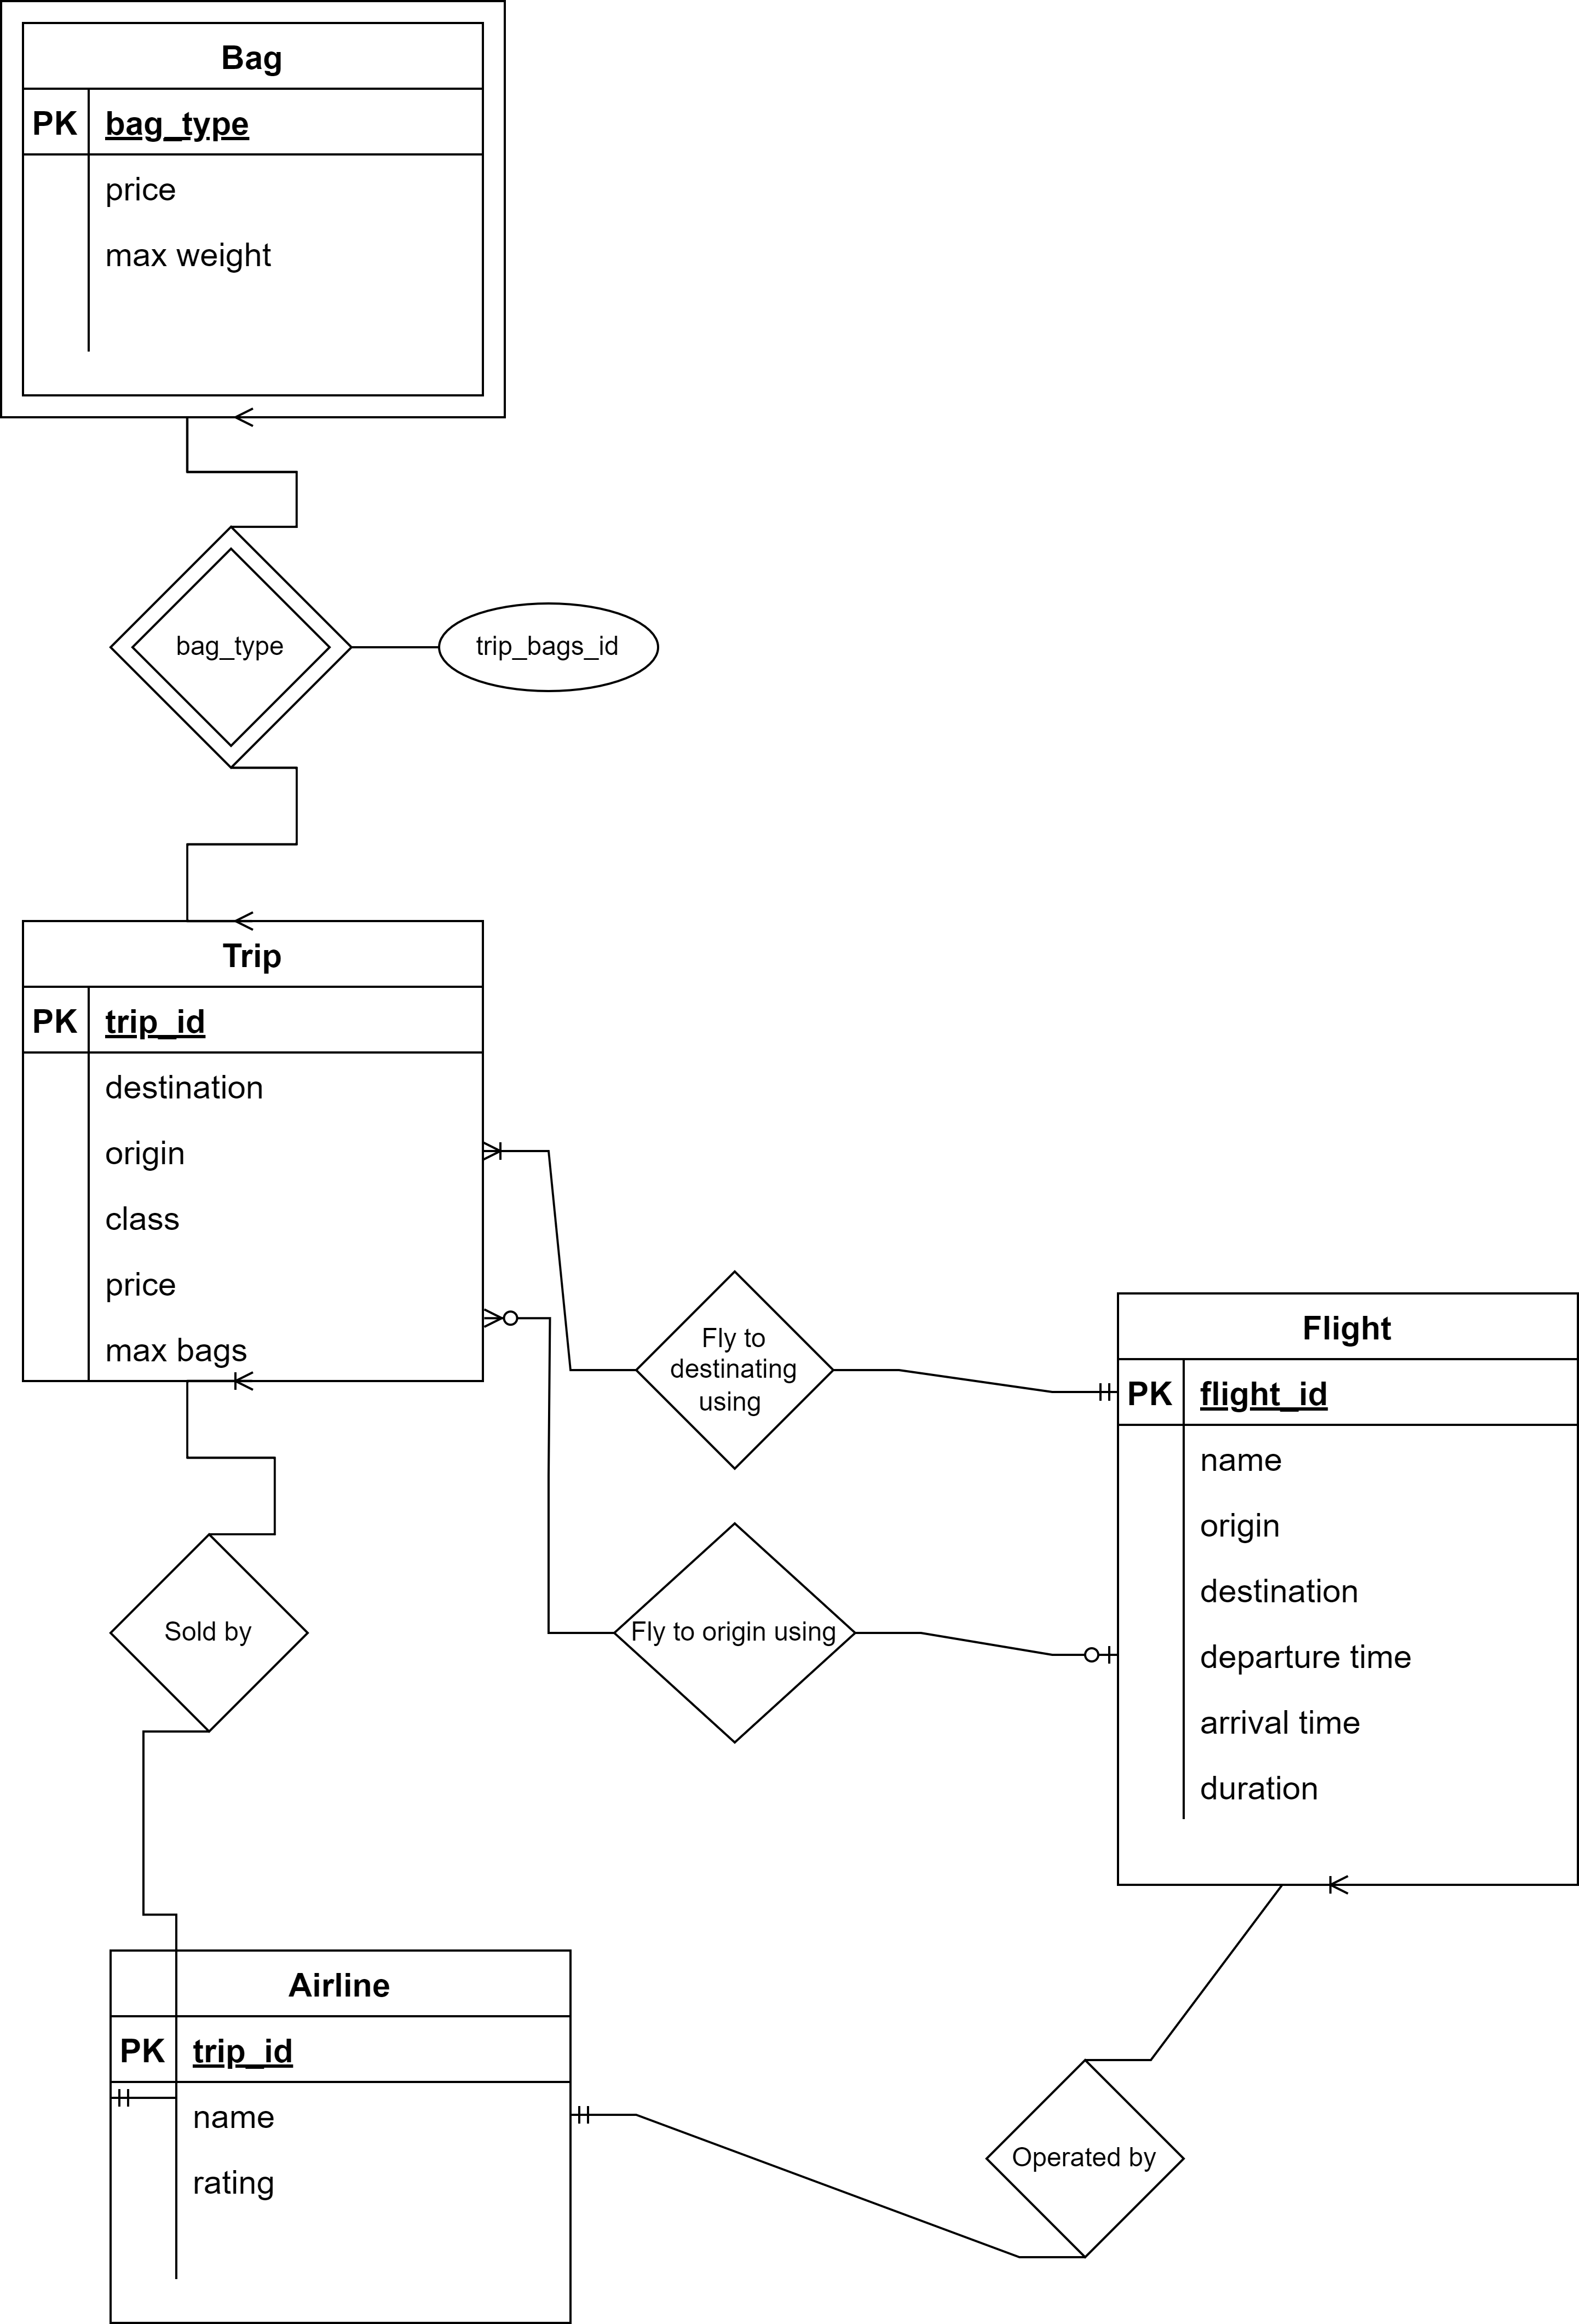entity: (1116, 1290, 1579, 1884), (19, 916, 481, 1385), (109, 1950, 567, 2324)
ident_rel: (107, 527, 349, 770)
many: (476, 1283, 543, 1353), (1290, 1866, 1394, 1910), (185, 391, 271, 440), (203, 897, 287, 944), (483, 1126, 537, 1188), (185, 1360, 264, 1403)
one: (1056, 1621, 1121, 1683), (566, 2093, 638, 2139), (109, 2072, 167, 2116), (1068, 1369, 1116, 1415)
rel: (617, 1526, 851, 1743), (634, 1267, 844, 1471), (106, 1531, 314, 1736), (989, 2060, 1177, 2261)
rel_attr: (439, 606, 657, 692)
weak_entity: (0, 9, 500, 419)
